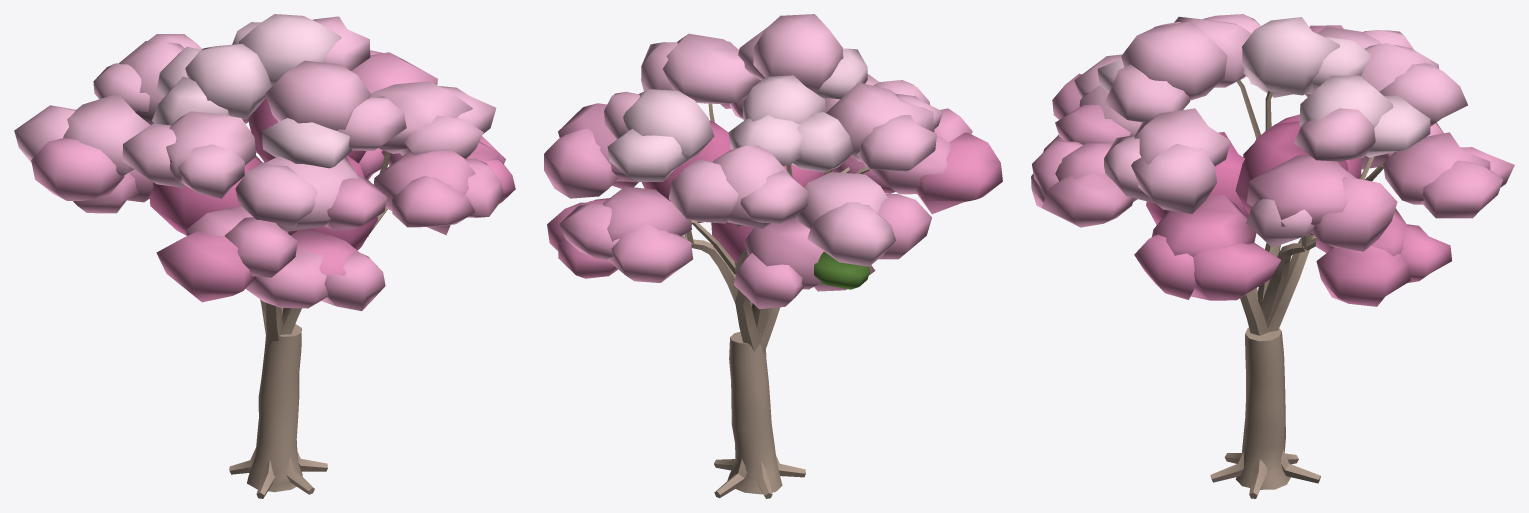
Rendered from cherry.glb.
3 views of the same model, side by side, from view 1: azimuth 30°, elevation 25°; view 2: azimuth 150°, elevation 25°; view 3: azimuth 270°, elevation 25° (orthographic). The views are drawn at different scales.
Parts seen in each view (by area): view 1: cherry; view 2: cherry; view 3: cherry.
Boxes of the visible parts, <box> form: cherry: <box>14,14,515,498</box>; cherry: <box>544,14,1002,498</box>; cherry: <box>1031,14,1514,498</box>.
Size of the model in its own units: 5.09 by 5.37 by 5.25.
